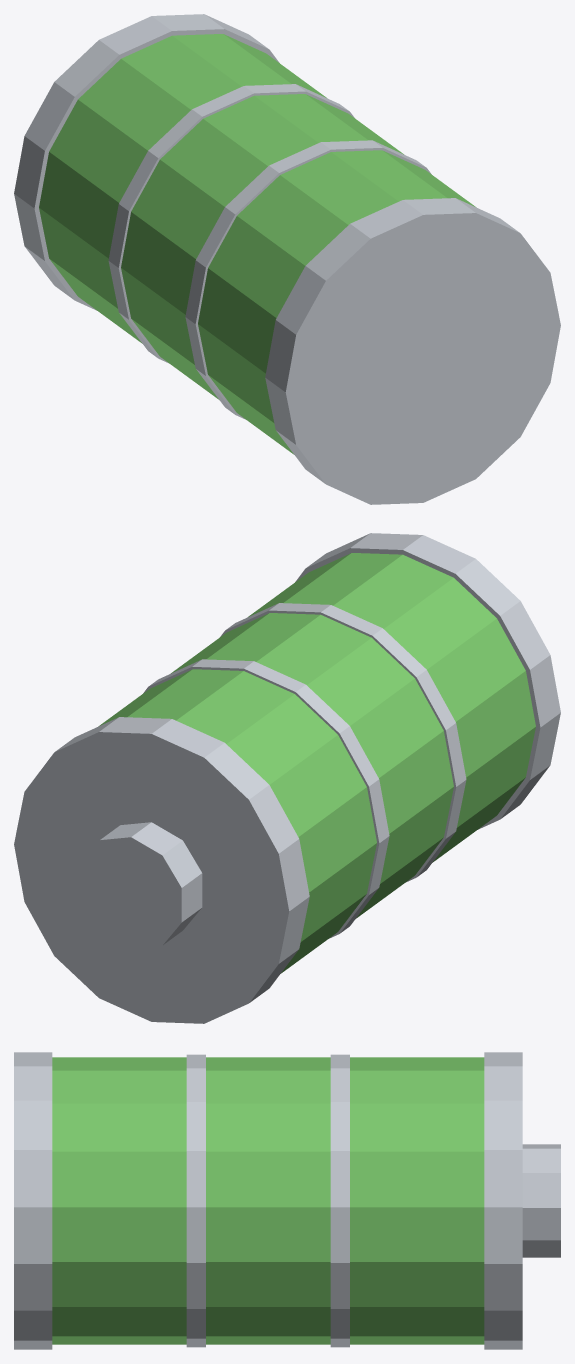
File: cargo_pencil_battery.glb
3 views of the same model, one above another, from view 1: azimuth 30°, elevation 25°; view 2: azimuth 150°, elevation 25°; view 3: azimuth 270°, elevation 25° (orthographic). The views are drawn at different scales.
Parts seen in each view (by area): view 1: CargoBattery; view 2: CargoBattery; view 3: CargoBattery.
Part boxes in pixels (<box>): CargoBattery: <box>14,14,560,504</box>; CargoBattery: <box>14,533,560,1023</box>; CargoBattery: <box>14,1052,560,1349</box>.
Bounding box in the file's own units: 0.062 × 0.062 × 0.114.
